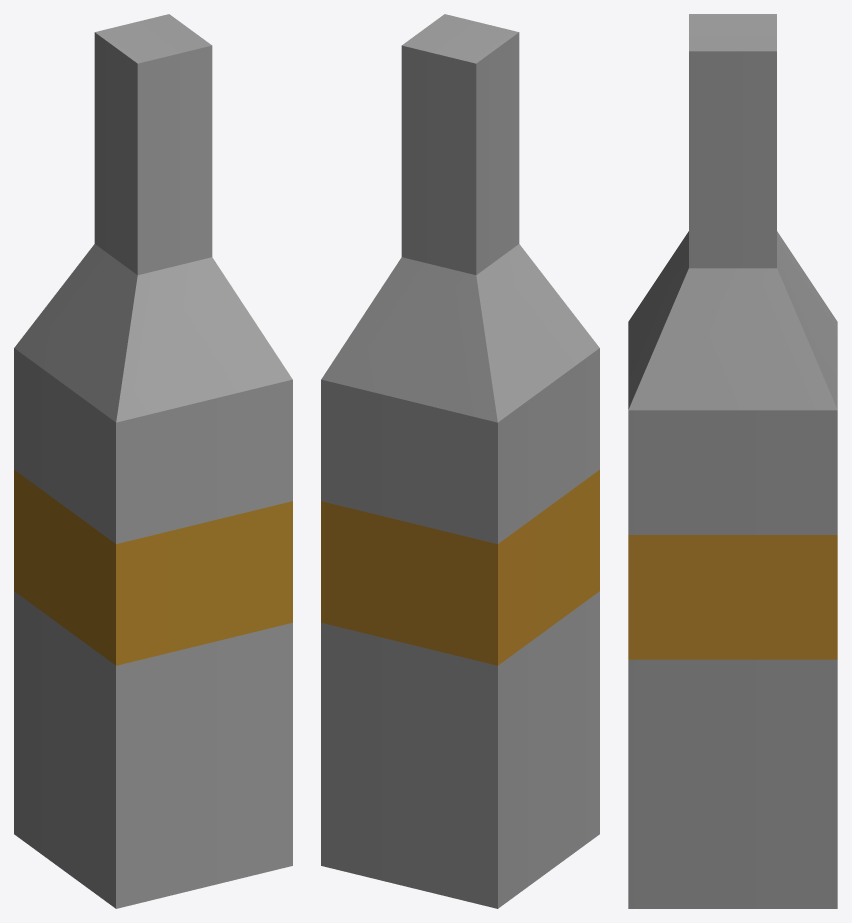
File: B01_bouteille_1_b.fbx
The picture shows the model from 3 angles, left to right: view 1: azimuth 30°, elevation 25°; view 2: azimuth 150°, elevation 25°; view 3: azimuth 270°, elevation 25°; orthographic projection. The views are drawn at different scales.
Visible parts, largest first — view 1: B01_bouteille_1_b; view 2: B01_bouteille_1_b; view 3: B01_bouteille_1_b.
Part boxes in pixels (box(x1,y1,x2,y2)): B01_bouteille_1_b: box(14, 14, 292, 908); B01_bouteille_1_b: box(321, 14, 599, 908); B01_bouteille_1_b: box(628, 14, 837, 908).
Bounding box in the file's own units: 7.05 × 30.94 × 7.05.
